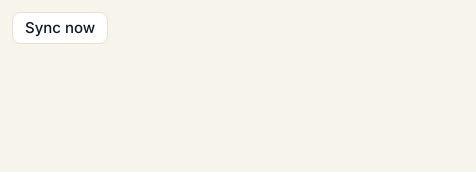
SyncNowButton › posts to the lane's route, announces 'Sync started' and refreshes the page twice
Click the button "Sync now": (60, 28) [12,12,108,44]
Wait 22000 ms
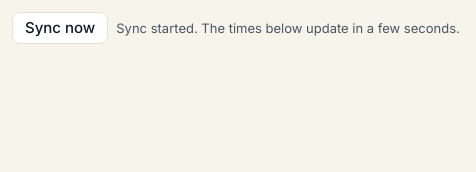
expect the message reads "Sync started. The times below update in a few seconds.": met, box [116,20,460,36]
